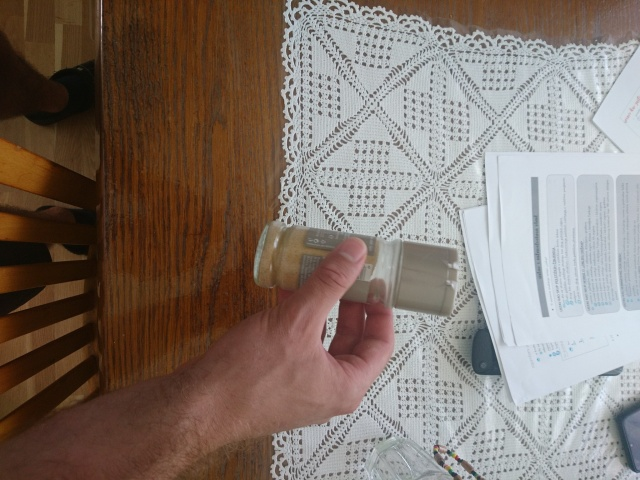Kotanyi Garlic Granules 70g: (250, 218, 461, 319)
